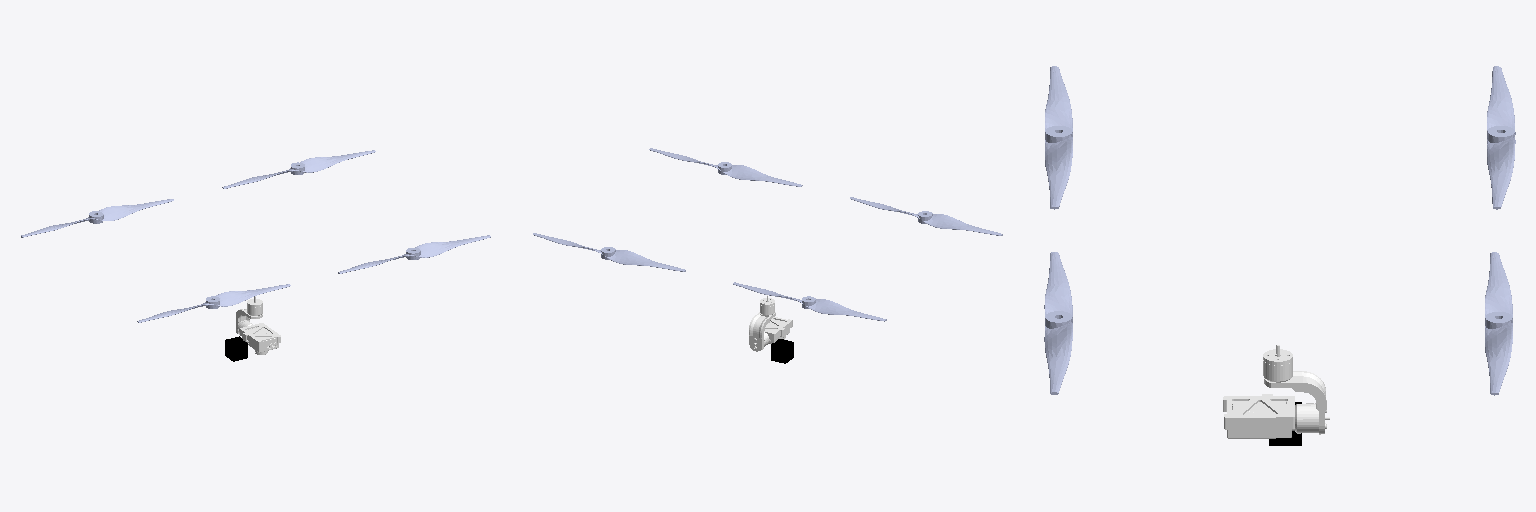
The robot description file, URDF, robot "Final_Drone":
<?xml version="1.0"?>
<robot name="Final_Drone">

  <link name="base_link">
    <inertial>
      <origin xyz="0.031328 -0.0071153 -0.051516" rpy="0 0 0" />
      <mass value="0.75775" />
      <inertia
        ixx="0.00039159" ixy="1.4124E-06" ixz="-5.7668E-07"
        iyy="0.00087671" iyz="-8.7619E-08" izz="0.00099537" />
    </inertial>
    <visual>
      <origin xyz="0 0 0.08" rpy="0 0 0" />
      <geometry>
        <mesh filename="package://xresto_drone/meshes/base_link.STL" />
      </geometry>
      <material name="">
        <color rgba="0.75294 0.75294 0.75294 1" />
      </material>
    </visual>
    <collision>
      <origin xyz="0 0 0.03" rpy="0 0 0" />
      <geometry>
        <box size="0.3 0.3 0.16" />
      </geometry>
    </collision>
  </link>

  <link name="prop1">
    <inertial>
      <origin xyz="0.0089965 0.0012089 0.027957" rpy="0 0 0" />
      <mass value="0.023983" />
      <inertia
        ixx="1.0527E-06" ixy="2.2757E-12" ixz="5.1184E-09"
        iyy="0.00010448" iyz="8.9019E-14" izz="0.00010513" />
    </inertial>
    <visual>
      <origin xyz="0 0 0" rpy="0 0 0" />
      <geometry>
        <mesh filename="package://xresto_drone/meshes/prop1.STL" />
      </geometry>
      <material name="">
        <color rgba="0.79216 0.81961 0.93333 1" />
      </material>
    </visual>
    <collision>
      <origin xyz="0 0 0.02" rpy="0 0 0" />
      <geometry>
        <cylinder radius="0.12" length="0.01" />
      </geometry>
    </collision>
  </link>
  <joint name="prop1_joint" type="continuous">
    <origin xyz="-0.17625 -0.20944 0.033767" rpy="0 0 0" />
    <parent link="base_link" />
    <child link="prop1" />
    <axis xyz="0.035355 0.035355 0.99875" />
  </joint>

  <link name="prop2">
    <inertial>
      <origin xyz="0.00091731 0.0017103 0.03332" rpy="0 0 0" />
      <mass value="0.023983" />
      <inertia
        ixx="1.0527E-06" ixy="-1.5805E-13" ixz="5.1194E-09"
        iyy="0.00010448" iyz="-9.6134E-14" izz="0.00010513" />
    </inertial>
    <visual>
      <origin xyz="0 0 0" rpy="0 0 0" />
      <geometry>
        <mesh filename="package://xresto_drone/meshes/prop2.STL" />
      </geometry>
      <material name="">
        <color rgba="0.79216 0.81961 0.93333 1" />
      </material>
    </visual>
    <collision>
      <origin xyz="0 0 0.02" rpy="0 0 0" />
      <geometry>
        <cylinder radius="0.12" length="0.01" />
      </geometry>
    </collision>
  </link>
  <joint name="prop2_joint" type="continuous">
    <origin xyz="-0.16817 0.19585 0.028404" rpy="0 0 0" />
    <parent link="base_link" />
    <child link="prop2" />
    <axis xyz="0.035355 0.035355 0.99875" />
  </joint>

  <link name="prop3">
    <inertial>
      <origin xyz="-0.00051529 -0.00078627 0.0087396" rpy="0 0 0" />
      <mass value="0.023983" />
      <inertia
        ixx="1.0527E-06" ixy="-1.9102E-13" ixz="5.1195E-09"
        iyy="0.00010448" iyz="-8.4176E-14" izz="0.00010513" />
    </inertial>
    <visual>
      <origin xyz="0 0 0" rpy="0 0 0" />
      <geometry>
        <mesh filename="package://xresto_drone/meshes/prop3.STL" />
      </geometry>
      <material name="">
        <color rgba="0.79216 0.81961 0.93333 1" />
      </material>
    </visual>
    <collision>
      <origin xyz="0 0 0.02" rpy="0 0 0" />
      <geometry>
        <cylinder radius="0.12" length="0.01" />
      </geometry>
    </collision>
  </link>
  <joint name="prop3_joint" type="continuous">
    <origin xyz="0.23698 0.19627 0.052984" rpy="0 0 0" />
    <parent link="base_link" />
    <child link="prop3" />
    <axis xyz="-0.035355 -0.035355 0.99875" />
  </joint>

  <link name="prop4">
    <inertial>
      <origin xyz="0.008506 0.00029722 0.028642" rpy="0 0 0" />
      <mass value="0.023983" />
      <inertia
        ixx="1.0527E-06" ixy="1.0563E-13" ixz="5.1193E-09"
        iyy="0.00010448" iyz="-9.4332E-14" izz="0.00010513" />
    </inertial>
    <visual>
      <origin xyz="0 0 0" rpy="0 0 0" />
      <geometry>
        <mesh filename="package://xresto_drone/meshes/prop4.STL" />
      </geometry>
      <material name="">
        <color rgba="0.79216 0.81961 0.93333 1" />
      </material>
    </visual>
    <collision>
      <origin xyz="0 0 0.02" rpy="0 0 0" />
      <geometry>
        <cylinder radius="0.12" length="0.01" />
      </geometry>
    </collision>
  </link>
  <joint name="prop4_joint" type="continuous">
    <origin xyz="0.22702 -0.2087 0.033094" rpy="0 0 0" />
    <parent link="base_link" />
    <child link="prop4" />
    <axis xyz="-0.035355 0.035355 0.99875" />
  </joint>

  <link name="camera_link">
    <inertial>
      <origin xyz="0 0 0" rpy="0 0 0" />
      <mass value="0.05" />
      <inertia
        ixx="1e-04" ixy="0" ixz="0"
        iyy="1e-04" iyz="0" izz="1e-04" />
    </inertial>
    <visual>
      <origin xyz="0 0 0" rpy="0 0 0" />
      <geometry>
        <mesh filename="package://xresto_drone/meshes/camera_link.STL" />
      </geometry>
      <material name="">
        <color rgba="1 1 1 1" />
      </material>
    </visual>
    <collision>
      <origin xyz="0 0 0" rpy="0 0 0" />
      <geometry>
        <box size="0.05 0.05 0.05" />
      </geometry>
    </collision>
  </link>
  <joint name="camera_joint" type="fixed">
    <origin xyz="0.041017 -0.0070878 -0.094045" rpy="0 0 0" />
    <parent link="base_link" />
    <child link="camera_link" />
    <axis xyz="0 0 0" />
  </joint>

  <link name="bottom_camera_link">
    <inertial>
      <origin xyz="0 0 0" rpy="0 0 0" />
      <mass value="0.03" />
      <inertia
        ixx="1e-05" ixy="0" ixz="0"
        iyy="1e-05" iyz="0" izz="1e-05" />
    </inertial>
    <visual>
      <origin xyz="0 0 0" rpy="0 0 0" />
      <geometry>
        <box size="0.03 0.03 0.03" />
      </geometry>
      <material name="">
        <color rgba="0 0 0 1" />
      </material>
    </visual>
    <collision>
      <origin xyz="0 0 0" rpy="0 0 0" />
      <geometry>
        <box size="0.03 0.03 0.03" />
      </geometry>
    </collision>
  </link>

  <joint name="bottom_camera_joint" type="fixed">
    <origin xyz="0 0 -0.15" rpy="0 1.5708 0" />
    <parent link="base_link" />
    <child link="bottom_camera_link" />
    <axis xyz="0 0 0" />
  </joint>

  <gazebo reference="base_link">
    <material>Gazebo/DarkGrey</material>
  </gazebo>
  <gazebo reference="prop1">
    <material>Gazebo/Blue</material>
  </gazebo>
  <gazebo reference="prop2">
    <material>Gazebo/Blue</material>
  </gazebo>
  <gazebo reference="prop3">
    <material>Gazebo/Blue</material>
  </gazebo>
  <gazebo reference="prop4">
    <material>Gazebo/Blue</material>
  </gazebo>
  <gazebo reference="camera_link">
    <material>Gazebo/Red</material>
  </gazebo>

  <gazebo reference="base_link">
    <sensor name="drone_imu" type="imu">
      <always_on>true</always_on>
      <update_rate>100</update_rate>
      <plugin name="imu_plugin" filename="libgazebo_ros_imu_sensor.so">
        <ros>
          <namespace>/drone</namespace>
          <remapping>~/out:=imu</remapping>
        </ros>
      </plugin>
    </sensor>

    <sensor name="altitude_sensor" type="ray">
      <pose>0 0 -0.15 0 1.5708 0</pose>
      <always_on>true</always_on>
      <update_rate>40</update_rate>
      <ray>
        <scan><horizontal><samples>1</samples><resolution>1</resolution><min_angle>0</min_angle><max_angle>0</max_angle></horizontal></scan>
        <range><min>0.1</min><max>50.0</max><resolution>0.01</resolution></range>
      </ray>
      <plugin name="altitude_plugin" filename="libgazebo_ros_ray_sensor.so">
        <ros>
          <namespace>/drone</namespace>
          <remapping>~/out:=altitude</remapping>
        </ros>
        <output_type>sensor_msgs/LaserScan</output_type>
      </plugin>
    </sensor>
  </gazebo>

  <gazebo reference="camera_link">
    <sensor type="camera" name="front_camera">
      <always_on>true</always_on>
      <update_rate>30.0</update_rate>
      <camera>
        <horizontal_fov>1.5</horizontal_fov>
        <image>
          <width>640</width>
          <height>480</height>
          <format>R8G8B8</format>
        </image>
        <clip><near>0.1</near><far>20.0</far></clip>
      </camera>
      <plugin name="camera_plugin" filename="libgazebo_ros_camera.so">
        <ros>
          <namespace>/drone</namespace>
        </ros>
        <camera_name>front_camera</camera_name>
        <frame_name>camera_link</frame_name>
      </plugin>
    </sensor>

    <sensor type="depth" name="front_depth_camera">
      <always_on>true</always_on>
      <update_rate>30.0</update_rate>
      <camera>
        <horizontal_fov>1.5</horizontal_fov>
        <image>
          <width>640</width>
          <height>480</height>
          <format>R8G8B8</format>
        </image>
        <clip><near>0.1</near><far>20.0</far></clip>
      </camera>
      <plugin name="depth_camera_plugin" filename="libgazebo_ros_camera.so">
        <ros>
          <namespace>/drone</namespace>
        </ros>
        <camera_name>front_camera</camera_name>
        <frame_name>camera_link</frame_name>
      </plugin>
    </sensor>
  </gazebo>

  <gazebo reference="bottom_camera_link">
    <material>Gazebo/Black</material>
    <sensor type="camera" name="bottom_camera">
      <always_on>true</always_on>
      <update_rate>30.0</update_rate>
      <camera>
        <horizontal_fov>1.047</horizontal_fov>
        <image>
          <width>640</width>
          <height>480</height>
          <format>R8G8B8</format>
        </image>
        <clip><near>0.05</near><far>10.0</far></clip>
      </camera>
      <plugin name="bottom_camera_plugin" filename="libgazebo_ros_camera.so">
        <ros>
          <namespace>/drone</namespace>
          <remapping>image_raw:=bottom_camera/image_raw</remapping>
          <remapping>camera_info:=bottom_camera/camera_info</remapping>
        </ros>
        <camera_name>bottom_camera</camera_name>
        <frame_name>bottom_camera_link</frame_name>
      </plugin>
    </sensor>
  </gazebo>

  <gazebo>
    <plugin name="gazebo_ros_force" filename="libgazebo_ros_force.so">
      <ros>
        <namespace>/drone</namespace>
        <remapping>gazebo_ros_force:=cmd_force</remapping>
      </ros>
      <link_name>base_link</link_name>
      <force_frame>link</force_frame> 
    </plugin>
  </gazebo>

  <gazebo>
    <plugin name="drone_odometry" filename="libgazebo_ros_p3d.so">
      <ros>
        <namespace>/drone</namespace>
        <remapping>odom:=odom</remapping>
      </ros>
      <body_name>base_link</body_name>
      <topic_name>odom</topic_name>
      <update_rate>50.0</update_rate>
    </plugin>
  </gazebo>

</robot>

--- What the picture shows (computed from the rendered views, not written in the file) ---
Views: 3 orthographic renders of the robot side by side, from view 1: azimuth 30°, elevation 25°; view 2: azimuth 150°, elevation 25°; view 3: azimuth 270°, elevation 25°.
Model Final_Drone with 7 links and 6 joints (4 continuous, 2 fixed), rooted at base_link, posed all joints at 0.
Links seen in each view (by area): view 1: camera_link, prop1, prop2, prop3, prop4; view 2: camera_link, prop1, prop3, prop2, prop4; view 3: camera_link, prop2, prop4, prop1, prop3.
Link boxes in pixels (x1,y1,x2,y2): camera_link: [236, 296, 280, 354]; prop1: [137, 284, 290, 322]; prop2: [21, 199, 173, 237]; prop3: [222, 150, 375, 188]; prop4: [338, 235, 490, 273]; camera_link: [749, 295, 792, 351]; prop1: [850, 197, 1002, 235]; prop3: [533, 233, 685, 271]; prop2: [733, 282, 886, 321]; prop4: [649, 148, 802, 186]; camera_link: [1223, 345, 1329, 438]; prop2: [1487, 66, 1515, 209]; prop4: [1044, 252, 1072, 394]; prop1: [1045, 66, 1072, 209]; prop3: [1485, 252, 1512, 395].
Size in the robot's own frame: 0.7085 by 0.4322 by 0.2344 metres.
5 mesh visuals loaded from 6 distinct referenced files (5 binary STL); not drawn: 1 (reference not matched to a file when rendering).
